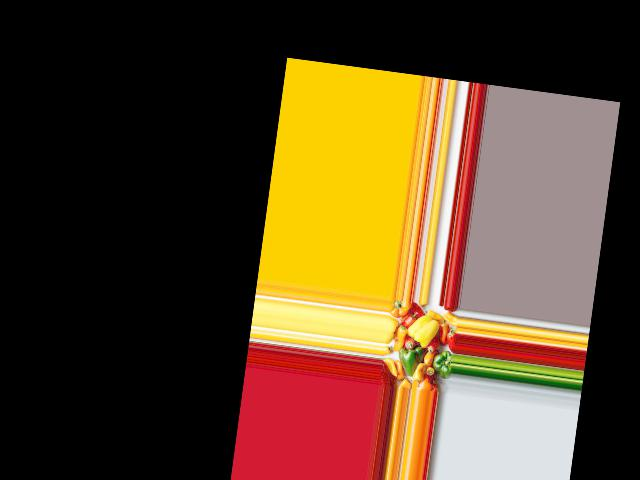bell_pepper: (442, 326, 457, 350)
